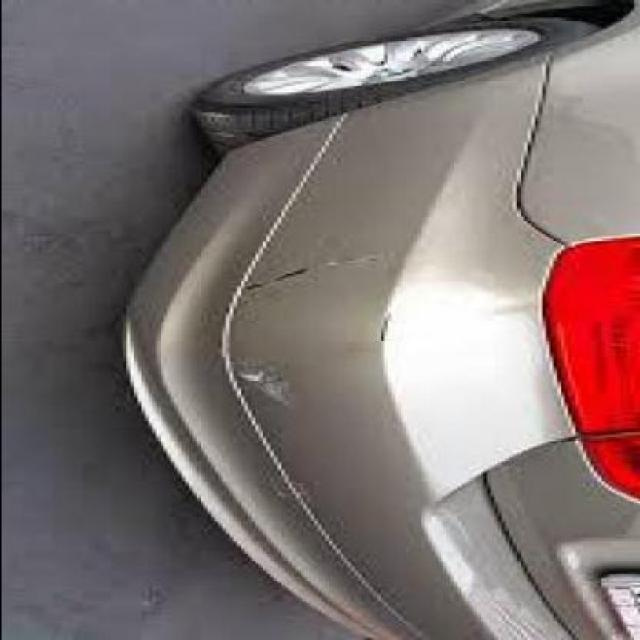damage: (229, 248, 377, 299), (211, 356, 296, 414), (253, 466, 320, 517), (367, 304, 399, 344)
